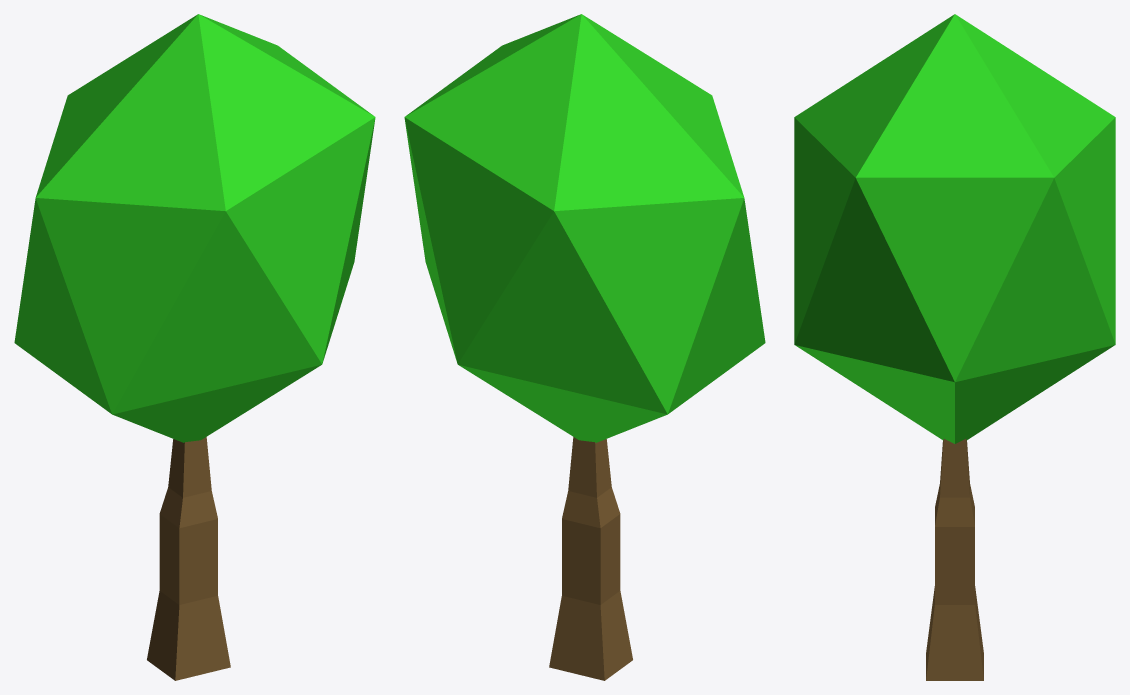
Rendered from Tree4.fbx.
3 views of the same model, side by side, from view 1: azimuth 30°, elevation 25°; view 2: azimuth 150°, elevation 25°; view 3: azimuth 270°, elevation 25° (orthographic).
Visible parts, largest first — view 1: Tree.004; view 2: Tree.004; view 3: Tree.004.
Part boxes in pixels (x1,y1,x2,y2): Tree.004: (14, 14, 375, 680); Tree.004: (404, 14, 765, 680); Tree.004: (794, 14, 1115, 680).
Bounding box in the file's own units: 292 × 566 × 251.
